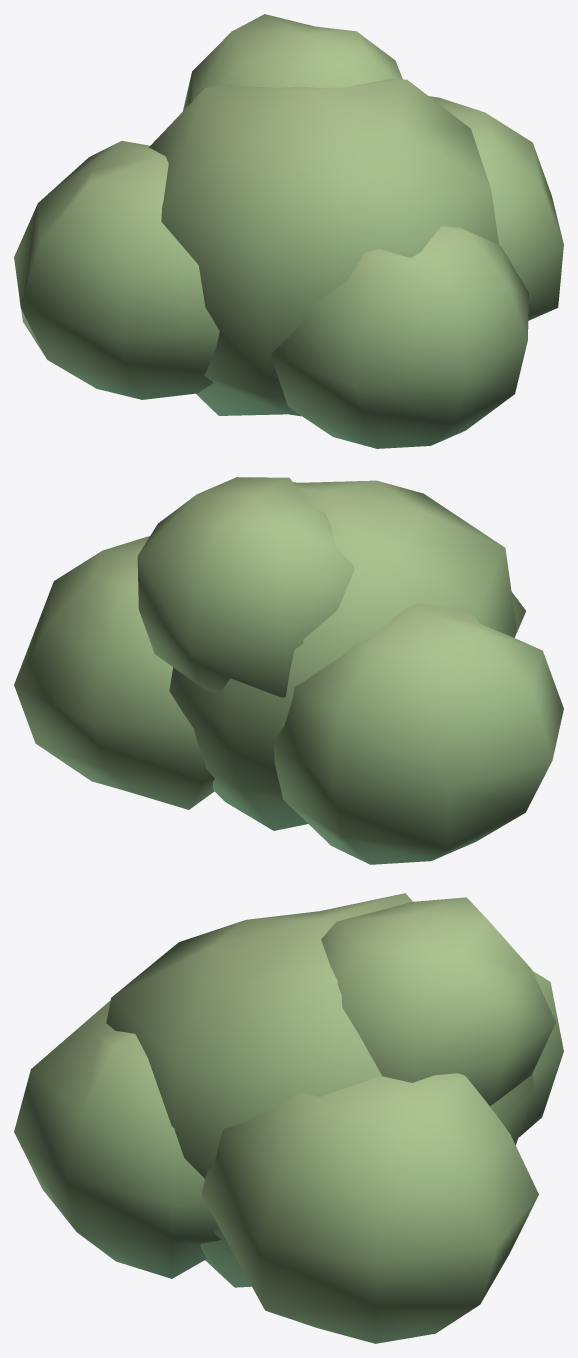
File: bush_round.glb
3 renders of one model, top to bottom at view 1: azimuth 30°, elevation 25°; view 2: azimuth 150°, elevation 25°; view 3: azimuth 270°, elevation 25°, orthographic. The views are drawn at different scales.
Parts seen in each view (by area): view 1: Bush; view 2: Bush; view 3: Bush.
Part boxes in pixels (box(x1,y1,x2,y2)): Bush: box(14, 14, 563, 448); Bush: box(14, 477, 563, 864); Bush: box(14, 893, 563, 1343).
Size of the model in its own units: 1.78 by 1.08 by 1.49.
